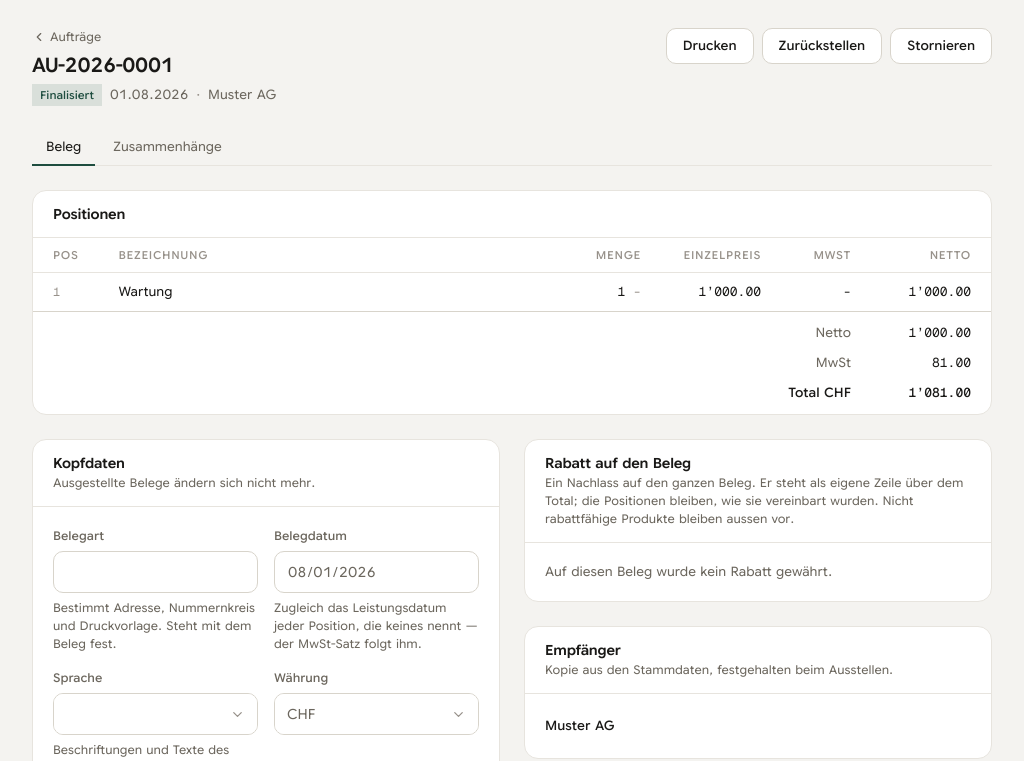
Test: SalesDocumentPage › salesDocumentPageShowsWhatComesBackWhenReopeningTest
Step 1. Click the button "Zurückstellen" → (822,46), box 762,28 -> 882,64
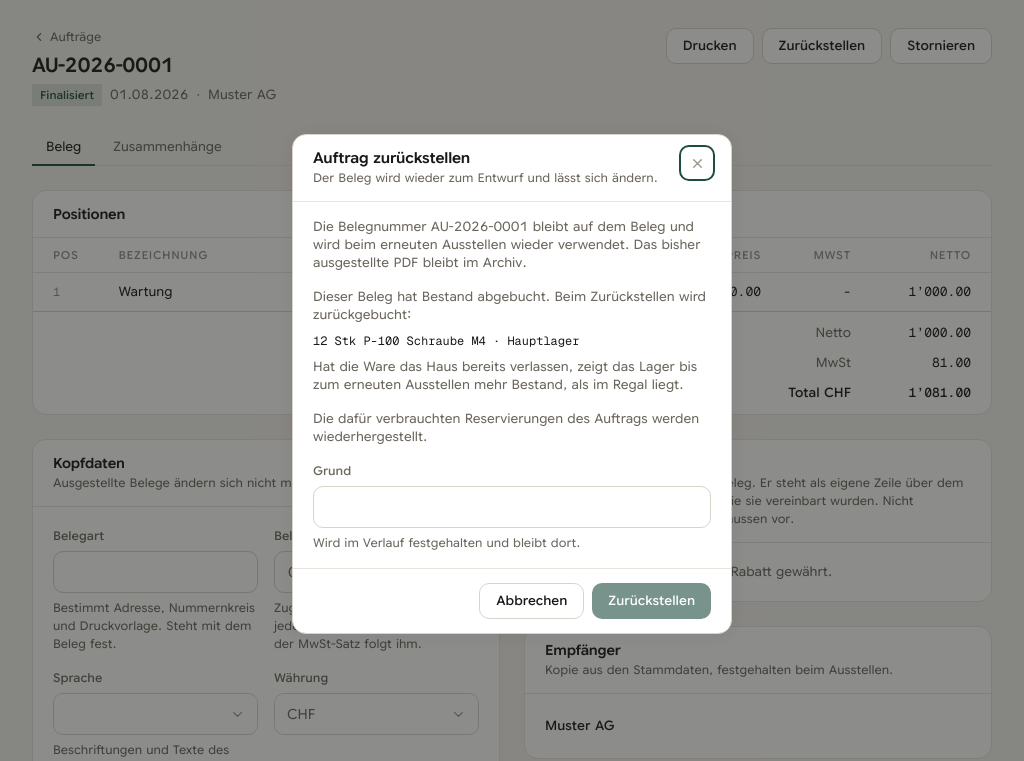
Expected: the text "12 Stk P-100 Schraube M4" is shown, 313,333 -> 579,349
Expected: the text "Hauptlager" is shown, 313,333 -> 579,349
Expected: the text "mehr Bestand, als im Regal liegt" is shown, 313,358 -> 697,393
